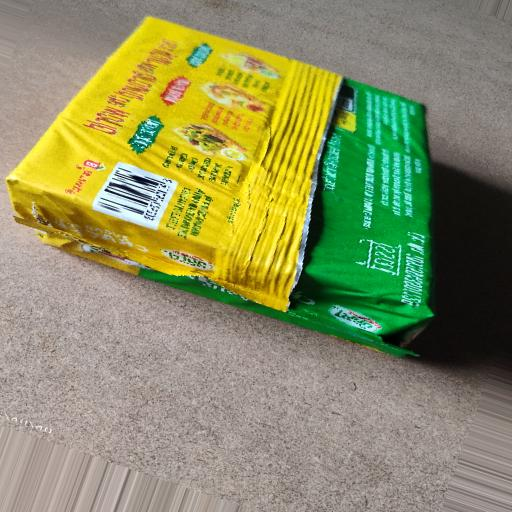Britannia Nutri-choice: (7, 9, 452, 381)
